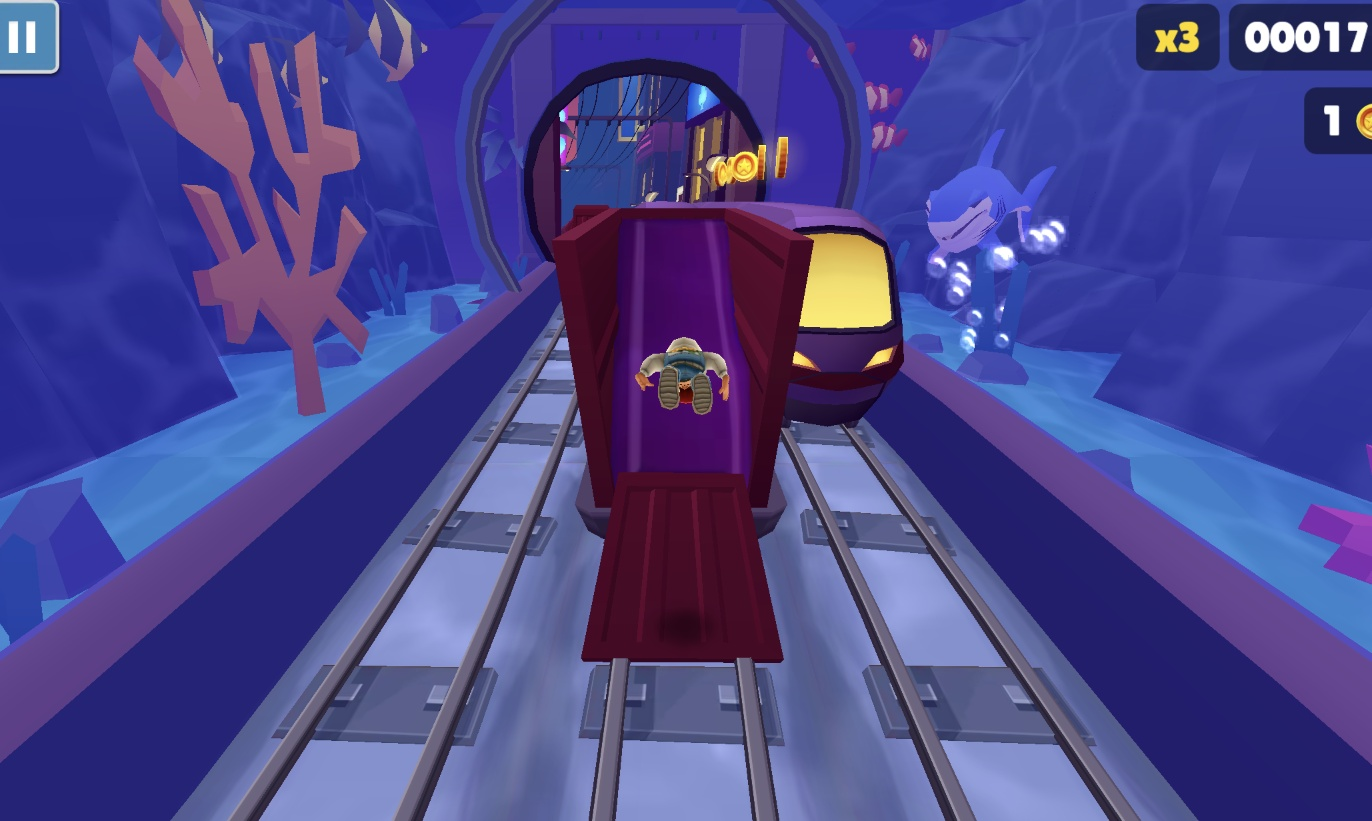train: (563, 201, 801, 666), (785, 205, 900, 416)
